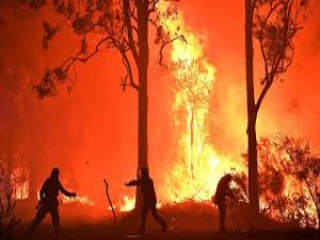fire: (151, 10, 235, 204)
